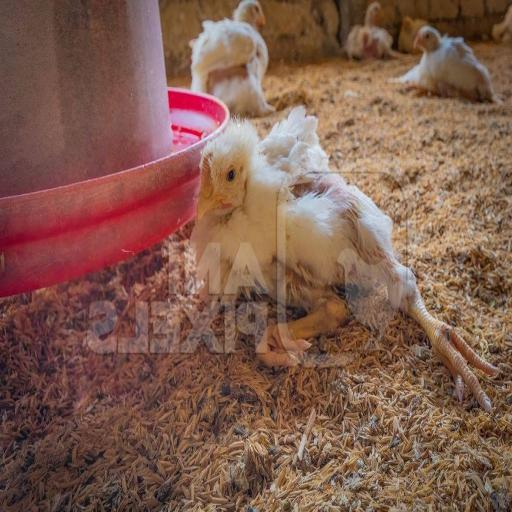disease: (196, 134, 248, 213)
